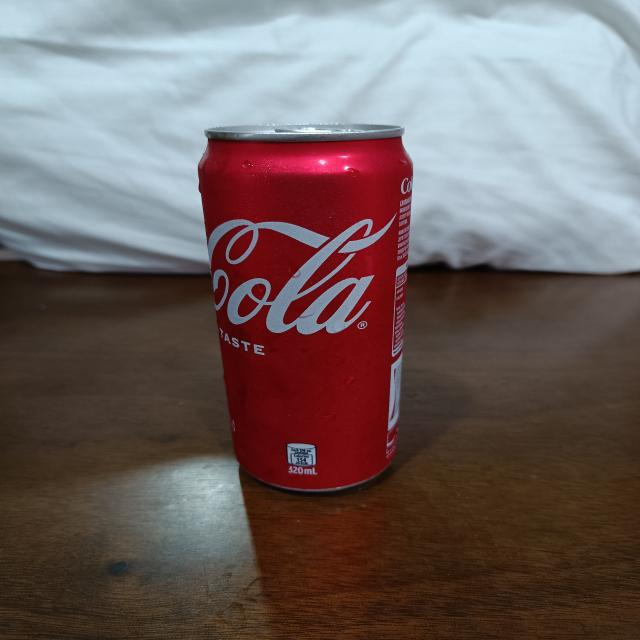coke: (212, 120, 422, 496)
